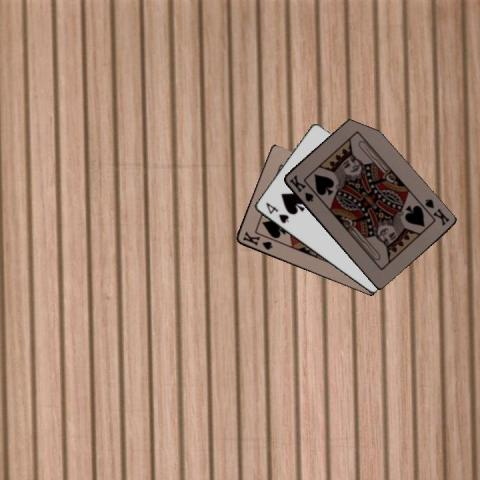4s: (263, 199, 290, 225)
Ks: (286, 172, 315, 203), (422, 196, 451, 227), (239, 229, 274, 251)
